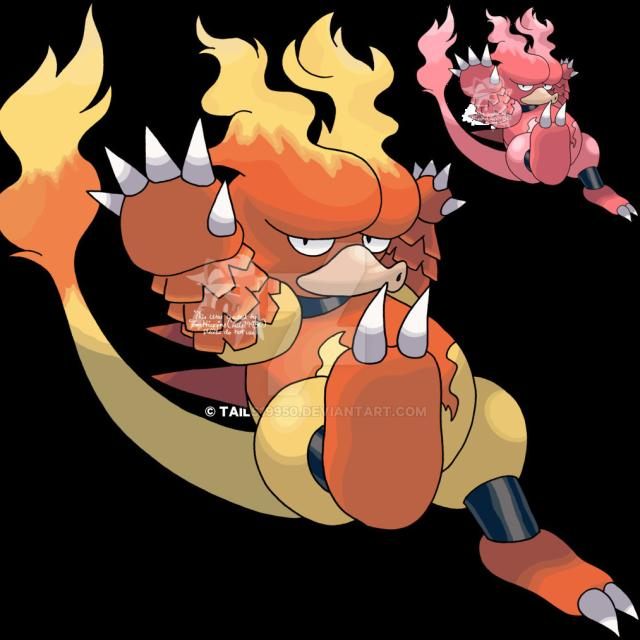Magmar: (50, 112, 608, 555), (398, 14, 640, 222)
